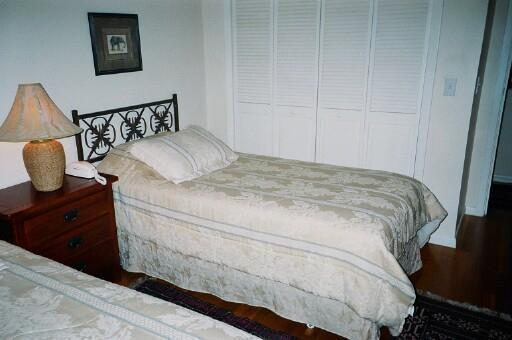Armario: (230, 6, 434, 238)
Cama: (74, 90, 436, 336), (3, 235, 260, 339)
